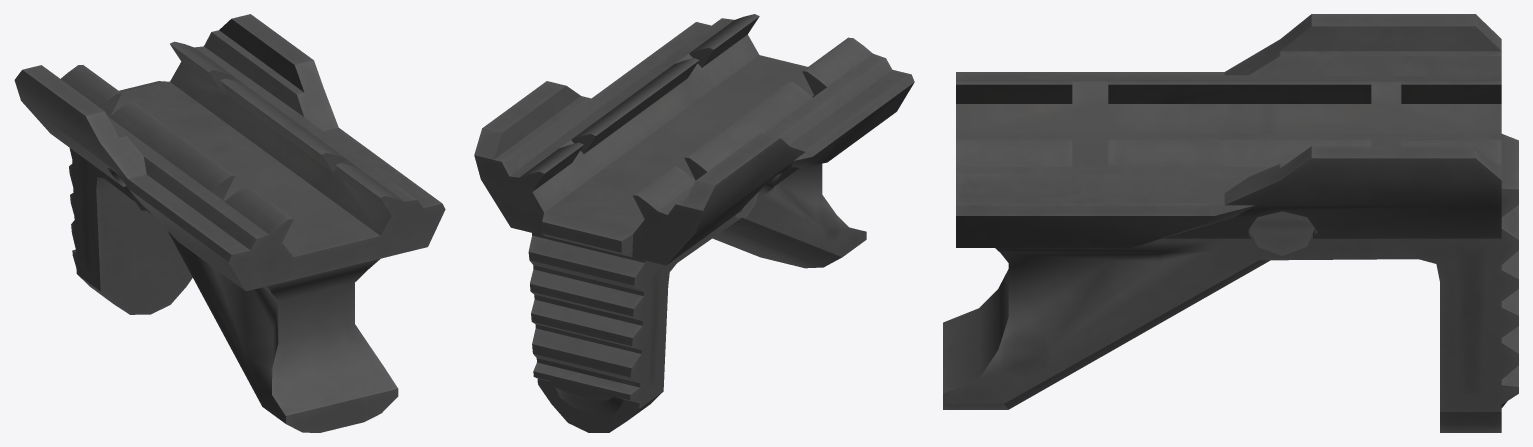
The model's file is IG_Acc_Grip_ALL_SCA_3.fbx.
3 views of the same model, side by side, from view 1: azimuth 30°, elevation 25°; view 2: azimuth 150°, elevation 25°; view 3: azimuth 270°, elevation 25° (orthographic). The views are drawn at different scales.
Parts seen in each view (by area): view 1: Acc_Grip_ALL_SCA_3; view 2: Acc_Grip_ALL_SCA_3; view 3: Acc_Grip_ALL_SCA_3.
Part boxes in pixels (x1,y1,x2,y2): Acc_Grip_ALL_SCA_3: (14,14,445,432); Acc_Grip_ALL_SCA_3: (474,14,914,432); Acc_Grip_ALL_SCA_3: (943,14,1518,432).
Size of the model in its own units: 0.1268 by 0.1393 by 0.2136.
Materials: 1 (1 with a texture image).
